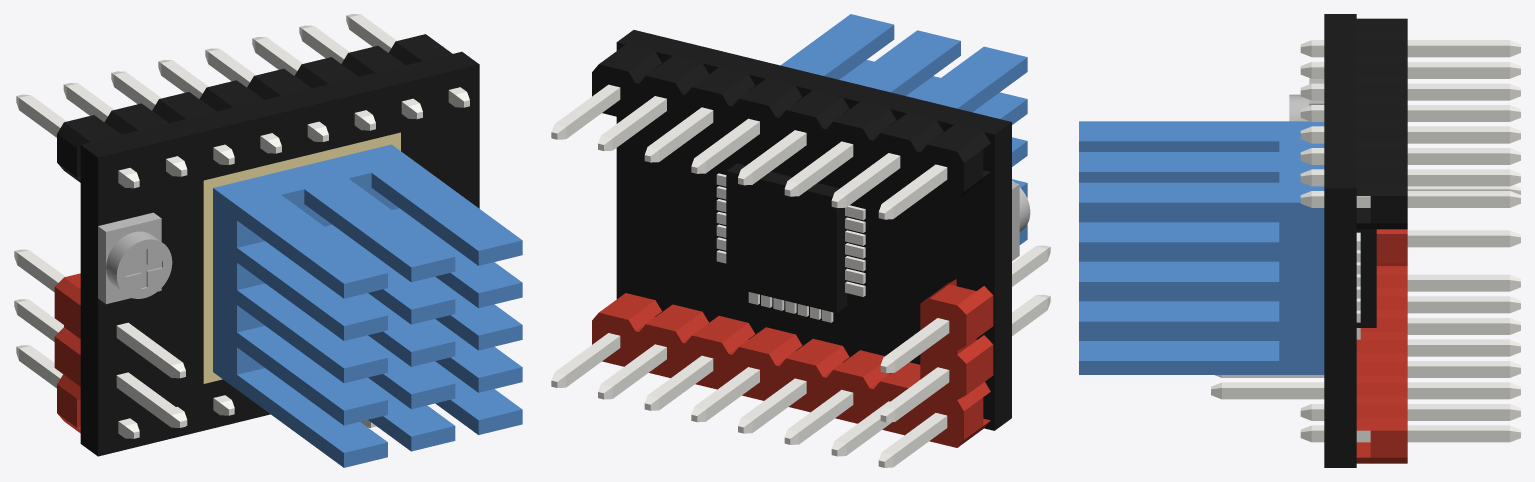
The model's file is BTT TMC2208 TMC2209 UART Stepper Driver.obj.
3 views of the same model, side by side, from view 1: azimuth 30°, elevation 25°; view 2: azimuth 150°, elevation 25°; view 3: azimuth 270°, elevation 25° (orthographic). The views are drawn at different scales.
Parts seen in each view (by area): view 1: Body37, PCB (1), Header Main Body, PCB (2), Pin (For adding more Pins) (2):1, Body38, Pin (For adding more Pins) (2), Pin (For adding more Pins) (1), Pin (For adding more Pins), Body20, Pin (For adding more Pins) (3) (1) (1), Pin (For adding more Pins) (3):1 (+3 smaller); view 2: PCB (1), Pin (For adding more Pins) (2):1, Header Main Body, Body37, Body56, Pin (For adding more Pins) (2), Pin (For adding more Pins), Pin (For adding more Pins) (1), Header Main Body (7), Pin (For adding more Pins) (1) (1):1, Pin (For adding more Pins) (3), Pin (For adding more Pins) (2) (1) (+9 smaller); view 3: Body37, Header Main Body, PCB (1), Pin (For adding more Pins) (2):1, Pin (For adding more Pins) (2), Pin (For adding more Pins), Pin (For adding more Pins) (1), Header Main Body (4), Pin (For adding more Pins) (3) (1), Header Main Body (5), Header Main Body (7), Pin (For adding more Pins) (1) (1):1 (+7 smaller).
Part boxes in pixels (x1,y1,x2,y2): Body37: (213,144,522,467); PCB (1): (80,51,479,456); Header Main Body: (158,14,469,153); PCB (2): (203,132,400,383); Pin (For adding more Pins) (2):1: (54,273,80,433); Body38: (106,231,172,298); Pin (For adding more Pins) (2): (16,94,139,188); Pin (For adding more Pins) (1): (63,83,187,176); Pin (For adding more Pins): (111,71,234,164); Body20: (98,212,161,304); Pin (For adding more Pins) (3) (1) (1): (116,322,185,378); Pin (For adding more Pins) (3):1: (116,372,185,427); PCB (1): (616,30,1011,430); Pin (For adding more Pins) (2):1: (592,279,993,447); Header Main Body: (551,44,849,185); Body37: (780,14,1027,244); Body56: (726,163,847,313); Pin (For adding more Pins) (2): (878,125,990,219); Pin (For adding more Pins): (784,102,896,196); Pin (For adding more Pins) (1): (831,113,943,207); Header Main Body (7): (644,355,713,410); Pin (For adding more Pins) (1) (1):1: (880,367,949,422); Pin (For adding more Pins) (3): (784,389,853,444); Pin (For adding more Pins) (2) (1): (878,413,947,467); Body37: (1079,121,1324,374); Header Main Body: (1300,84,1520,229); PCB (1): (1324,14,1356,467); Pin (For adding more Pins) (2):1: (1356,229,1407,463); Pin (For adding more Pins) (2): (1300,18,1520,57); Pin (For adding more Pins): (1300,62,1520,100); Pin (For adding more Pins) (1): (1300,40,1520,78); Header Main Body (4): (1407,339,1520,356); Pin (For adding more Pins) (3) (1): (1211,382,1324,399); Header Main Body (5): (1407,425,1520,442); Header Main Body (7): (1407,382,1520,399); Pin (For adding more Pins) (1) (1):1: (1407,230,1520,247).
Size of the model in its own units: 2.06 by 1.54 by 2.21.
